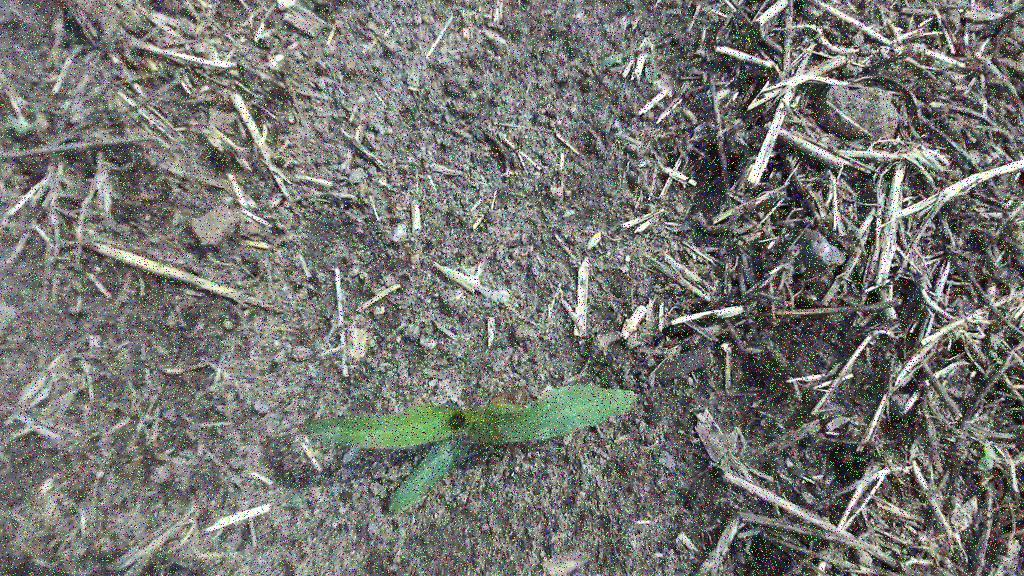BroWeed: (976, 438, 1001, 474), (599, 49, 632, 72), (278, 488, 305, 509), (4, 116, 29, 135), (641, 59, 659, 85), (988, 348, 1005, 368), (686, 54, 703, 70)
Maize: (305, 367, 648, 527)
